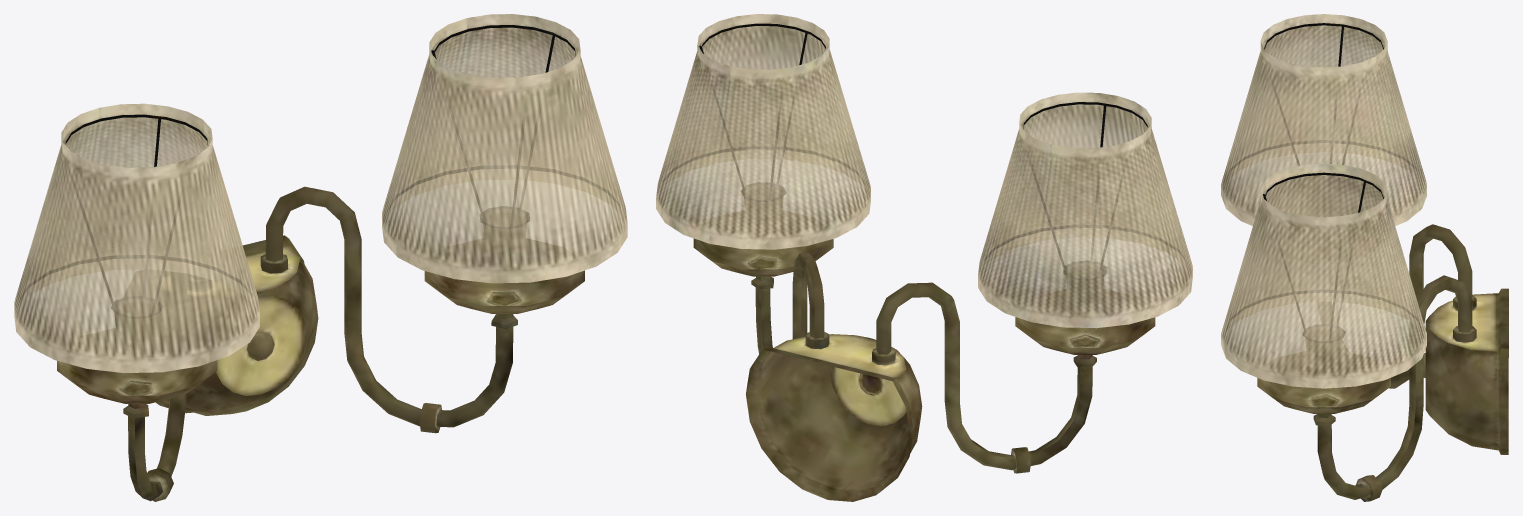
The model's file is luz_aplique_doble.glb.
3 views of the same model, side by side, from view 1: azimuth 30°, elevation 25°; view 2: azimuth 150°, elevation 25°; view 3: azimuth 270°, elevation 25° (orthographic). The views are drawn at different scales.
Visible parts, largest first — view 1: WallLight_lambert1_0; view 2: WallLight_lambert1_0; view 3: WallLight_lambert1_0.
Part boxes in pixels (bbox=[...]): WallLight_lambert1_0: bbox=[14, 14, 627, 501]; WallLight_lambert1_0: bbox=[656, 14, 1192, 501]; WallLight_lambert1_0: bbox=[1221, 14, 1508, 501].
Size of the model in its own units: 0.6122 by 0.4 by 0.3146.
Materials: 1 (1 with a texture image).
